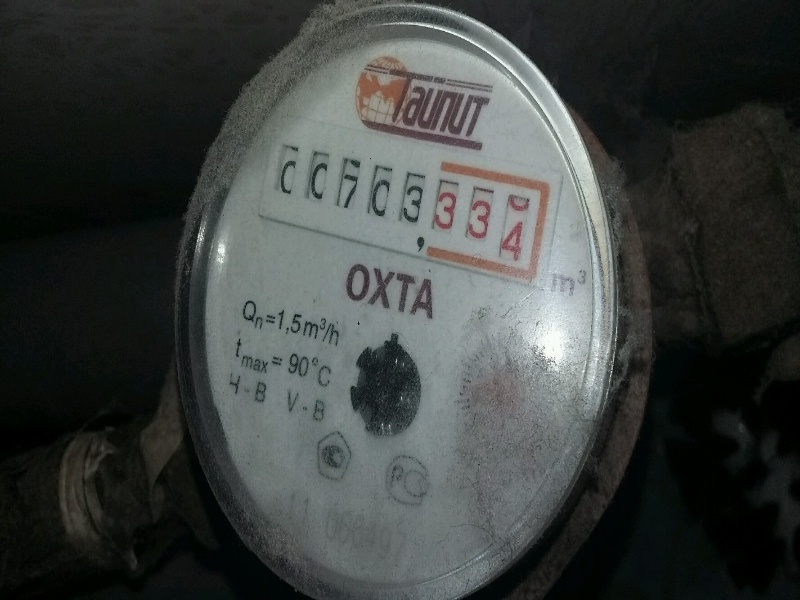meter: (258, 147, 546, 256)
